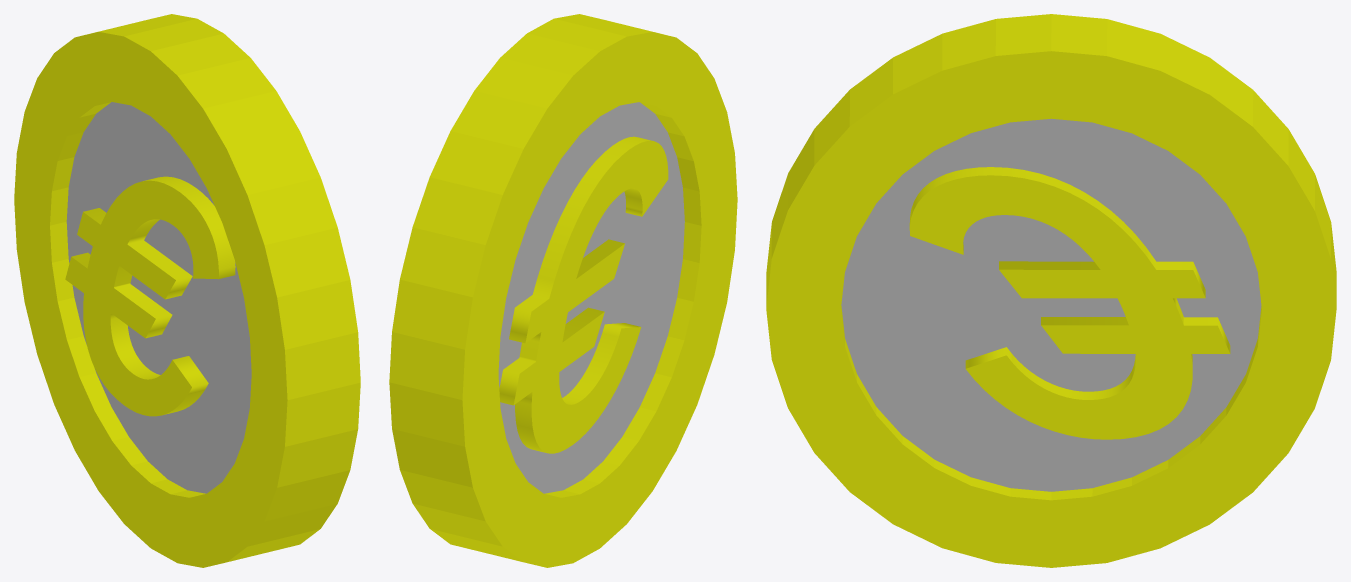
File: eurocoins.glb
The picture shows the model from 3 angles, left to right: view 1: azimuth 30°, elevation 25°; view 2: azimuth 150°, elevation 25°; view 3: azimuth 270°, elevation 25°; orthographic projection. The views are drawn at different scales.
Visible parts, largest first — view 1: Cylinder, Cylinder.001, ret; view 2: Cylinder, Cylinder.001, ret; view 3: Cylinder, Cylinder.001, ret.
Part boxes in pixels (box(x1,y1,x2,y2)): Cylinder: box(14, 14, 360, 567); Cylinder.001: box(66, 102, 251, 493); ret: box(65, 176, 235, 416); Cylinder: box(389, 14, 737, 567); Cylinder.001: box(498, 102, 684, 493); ret: box(499, 136, 668, 453); Cylinder: box(766, 14, 1336, 567); Cylinder.001: box(841, 118, 1261, 491); ret: box(909, 167, 1230, 439).
Size of the model in its own units: 0.3119 by 2 by 2.
